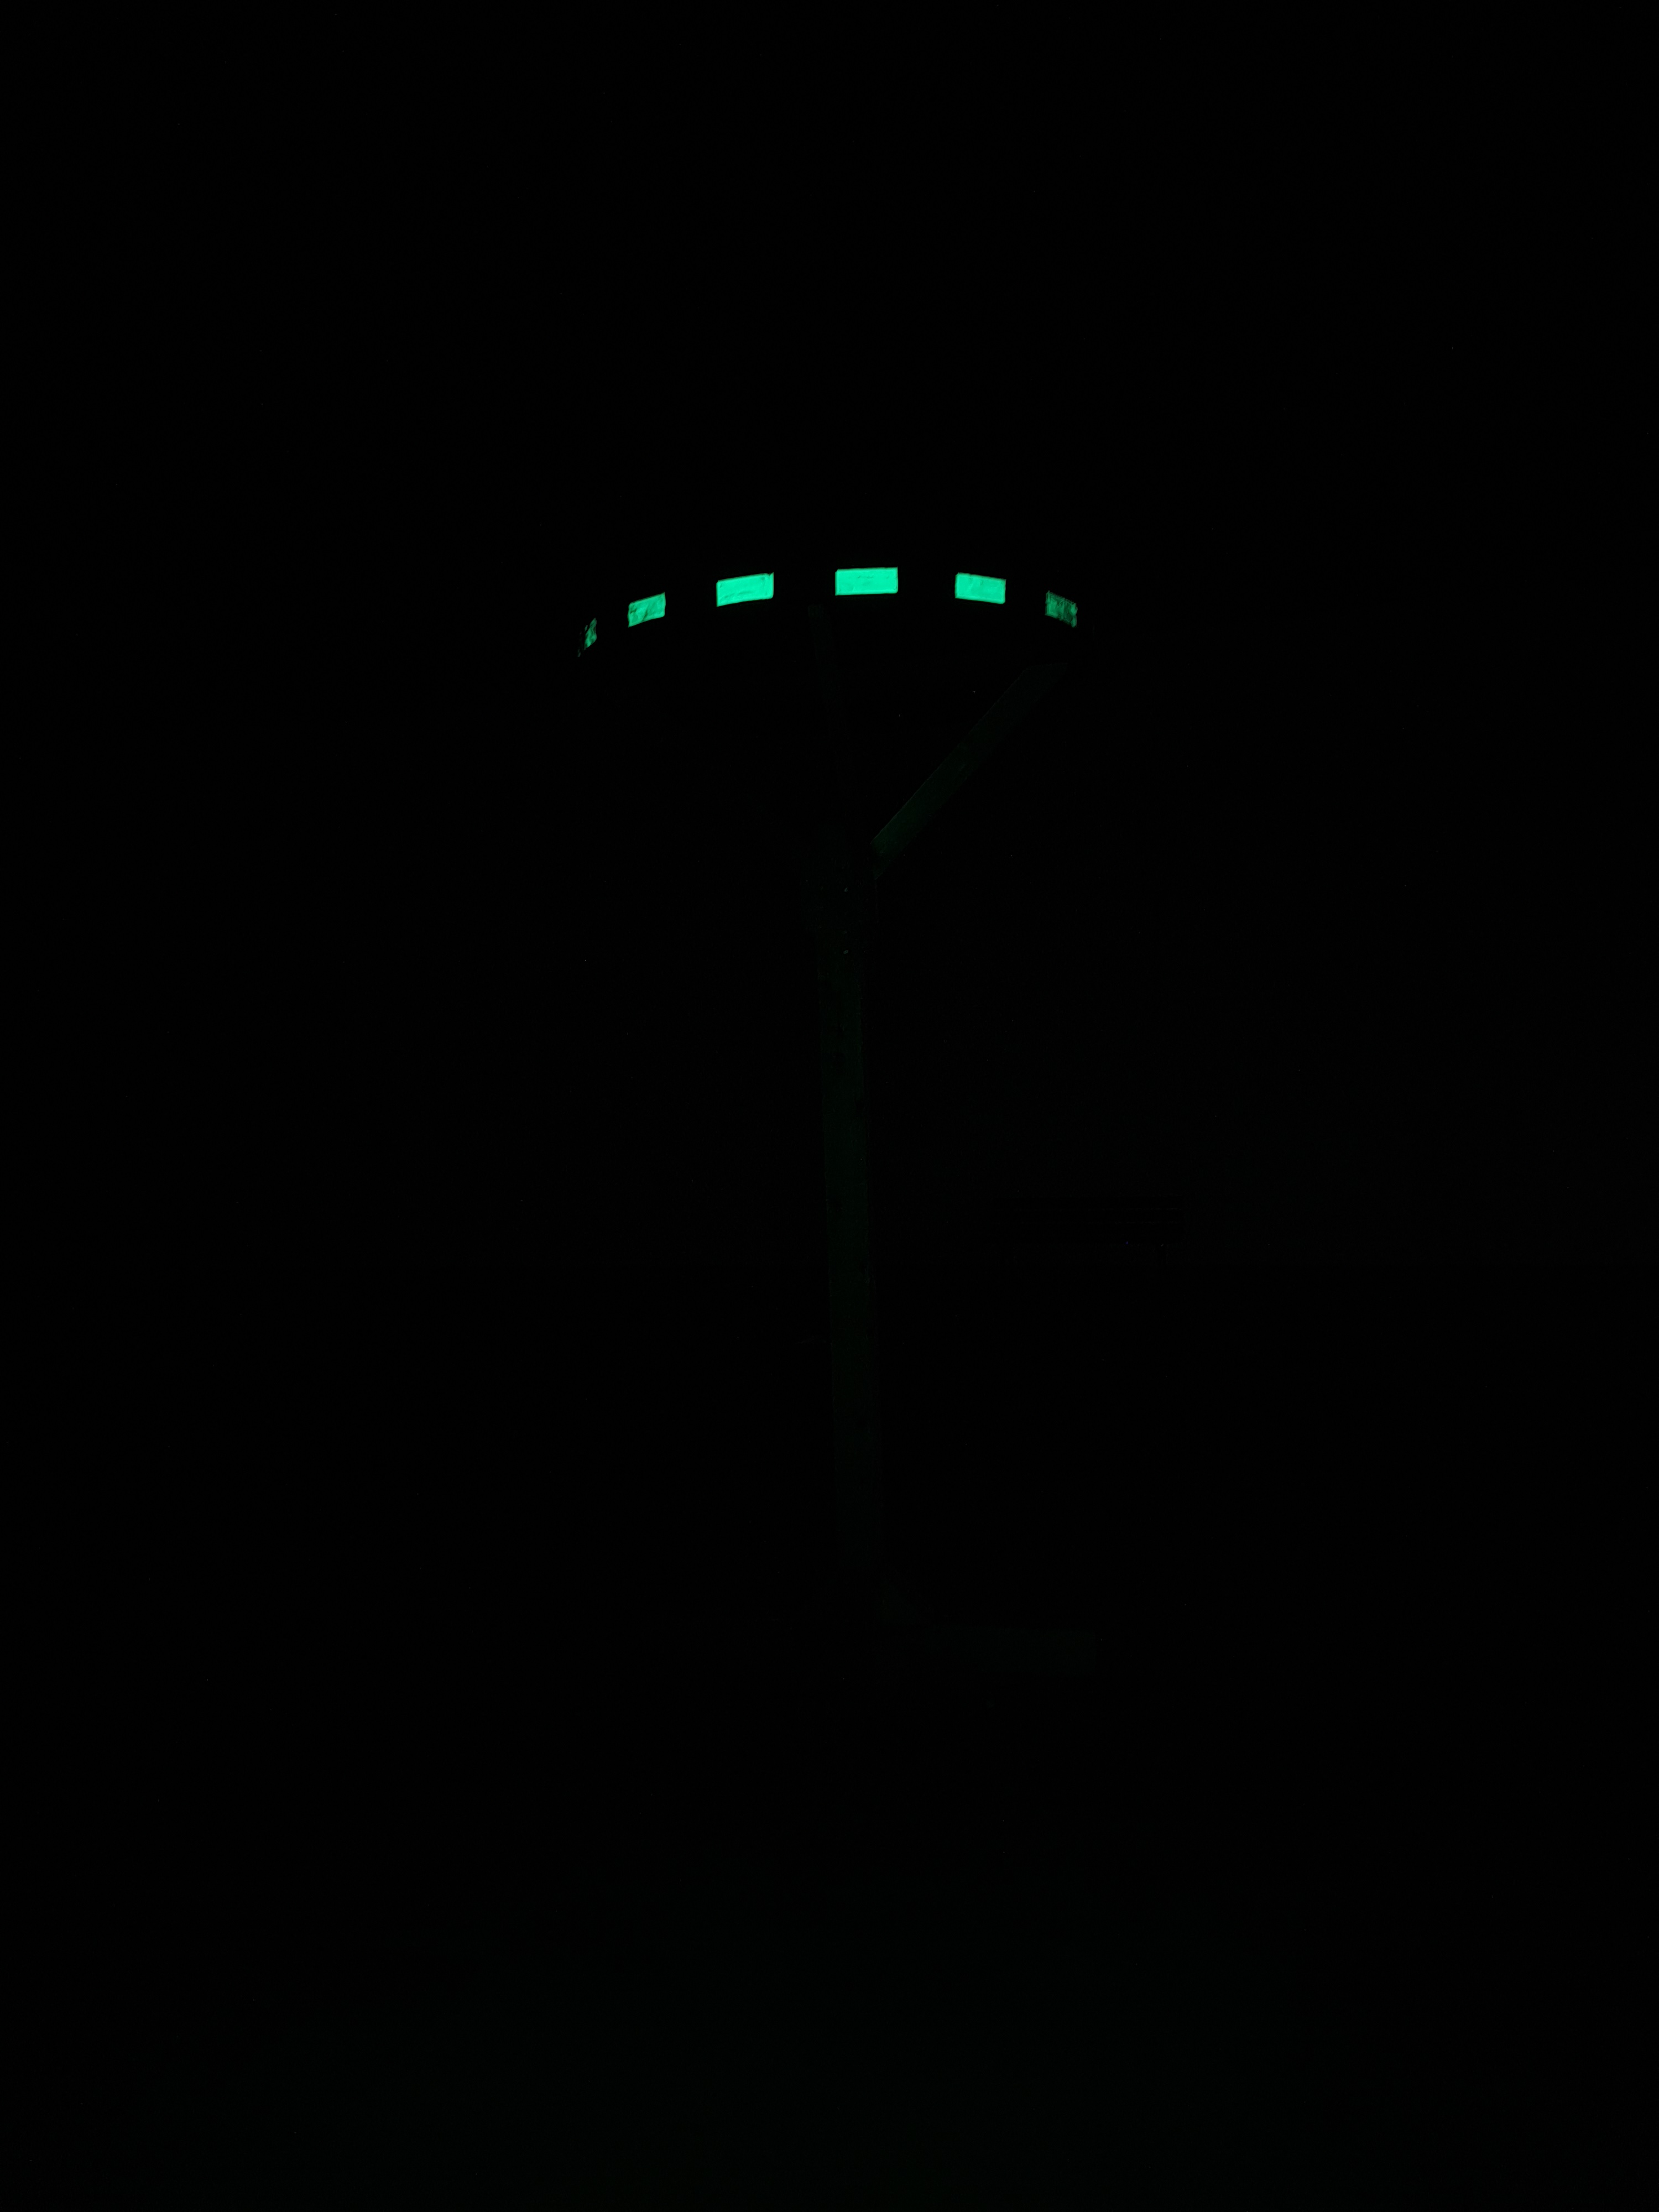hoop: (565, 561, 1082, 658)
